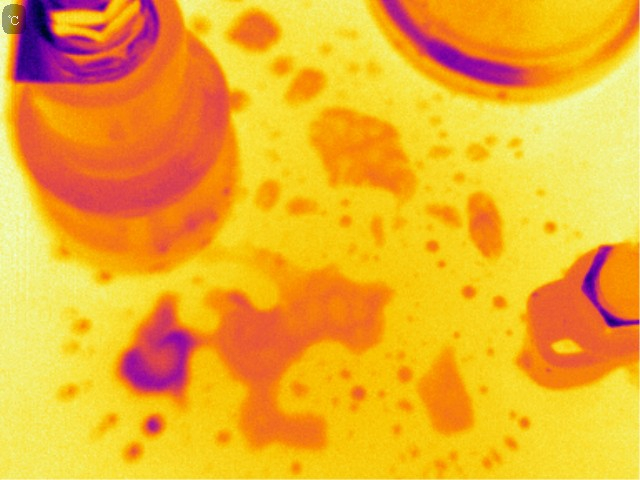Water: (92, 241, 400, 480), (314, 106, 417, 199), (419, 348, 475, 439), (465, 190, 507, 260), (327, 357, 370, 420), (467, 125, 527, 166), (230, 8, 276, 52), (204, 419, 235, 455), (286, 192, 318, 222), (398, 364, 415, 419), (428, 201, 461, 229), (253, 179, 281, 211), (291, 70, 321, 99), (360, 51, 387, 83), (136, 412, 169, 437), (121, 437, 146, 464), (92, 264, 117, 291), (425, 148, 458, 165), (338, 18, 363, 40), (68, 317, 93, 335), (542, 212, 560, 236), (340, 58, 361, 78), (58, 384, 81, 400), (425, 236, 443, 254), (320, 39, 338, 56), (491, 294, 506, 313), (232, 92, 246, 111), (187, 267, 201, 285), (461, 286, 476, 302), (503, 435, 518, 450), (434, 256, 450, 270), (517, 416, 529, 431), (274, 59, 289, 71)
